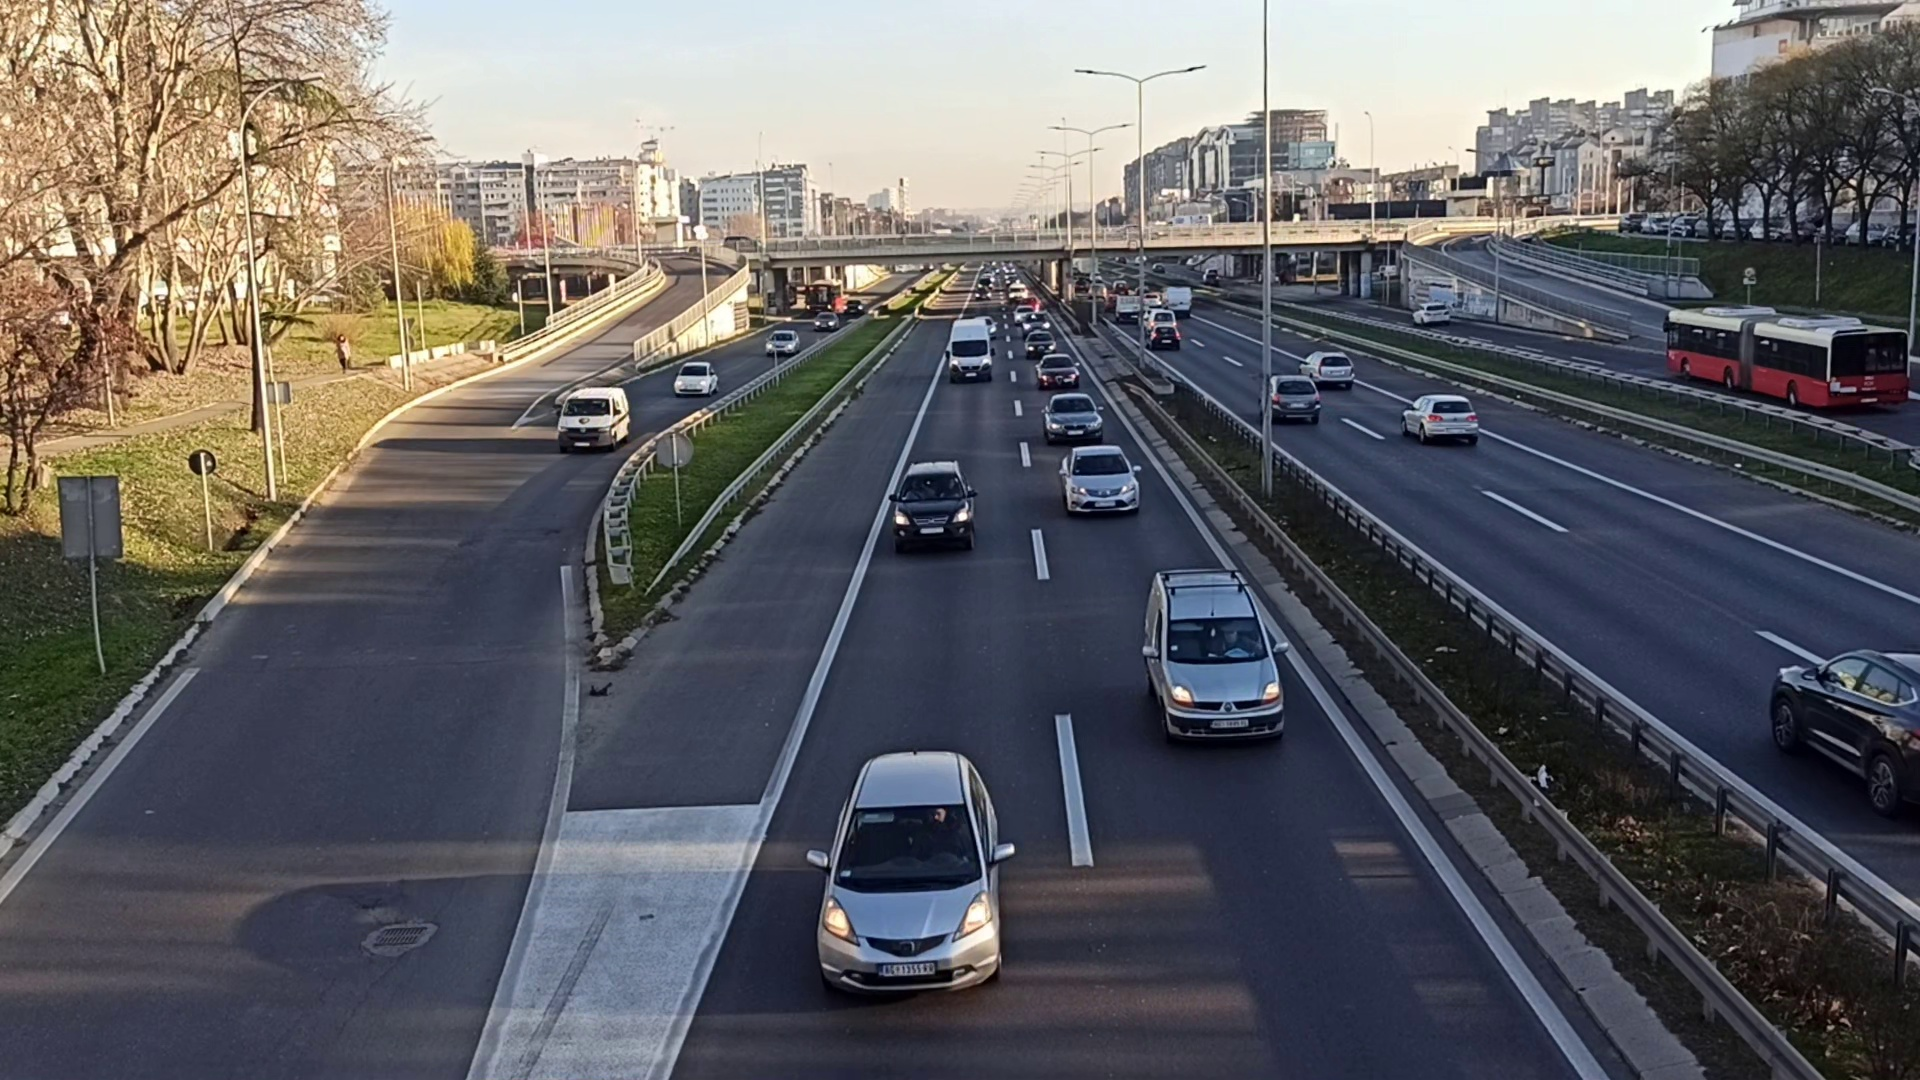bus: (1665, 301, 1913, 413)
car: (803, 736, 1021, 1002), (1139, 564, 1296, 752), (886, 458, 982, 555), (1052, 439, 1145, 517), (551, 382, 636, 450), (1400, 390, 1482, 444), (1255, 372, 1320, 425), (1040, 394, 1104, 440), (1302, 347, 1354, 386), (671, 361, 719, 400), (1034, 353, 1083, 389), (765, 328, 798, 355)
van: (944, 315, 996, 382)
